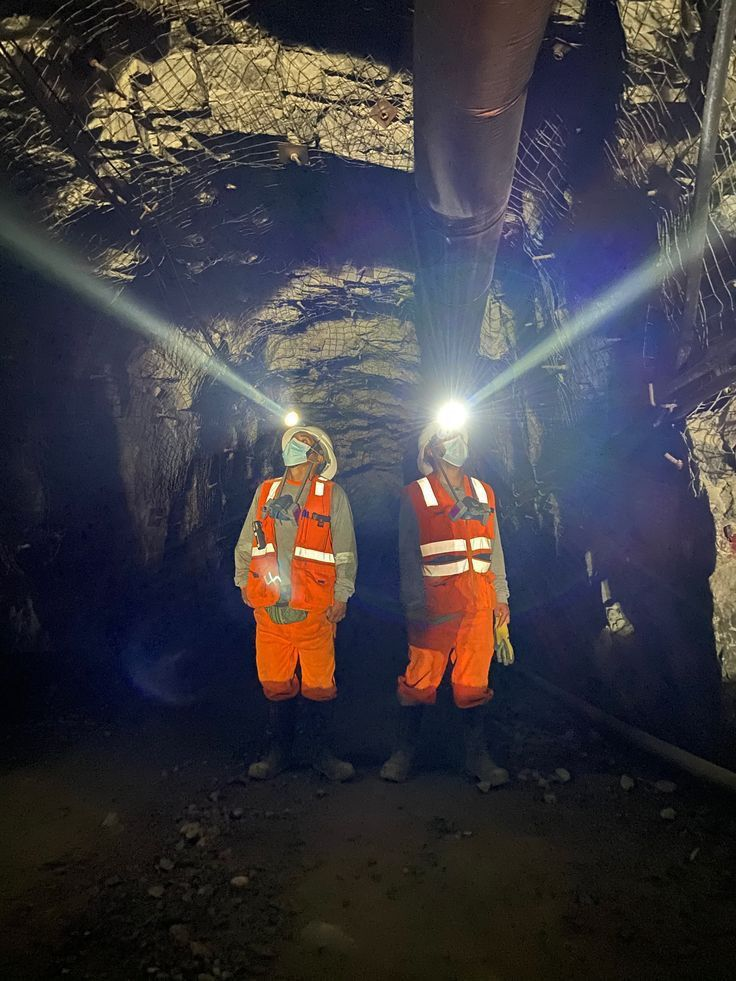hardhat: (392, 417, 512, 493), (272, 412, 352, 486)
person: (392, 405, 583, 820), (206, 399, 379, 785)
safety_vest: (407, 471, 502, 619), (245, 468, 347, 603)
